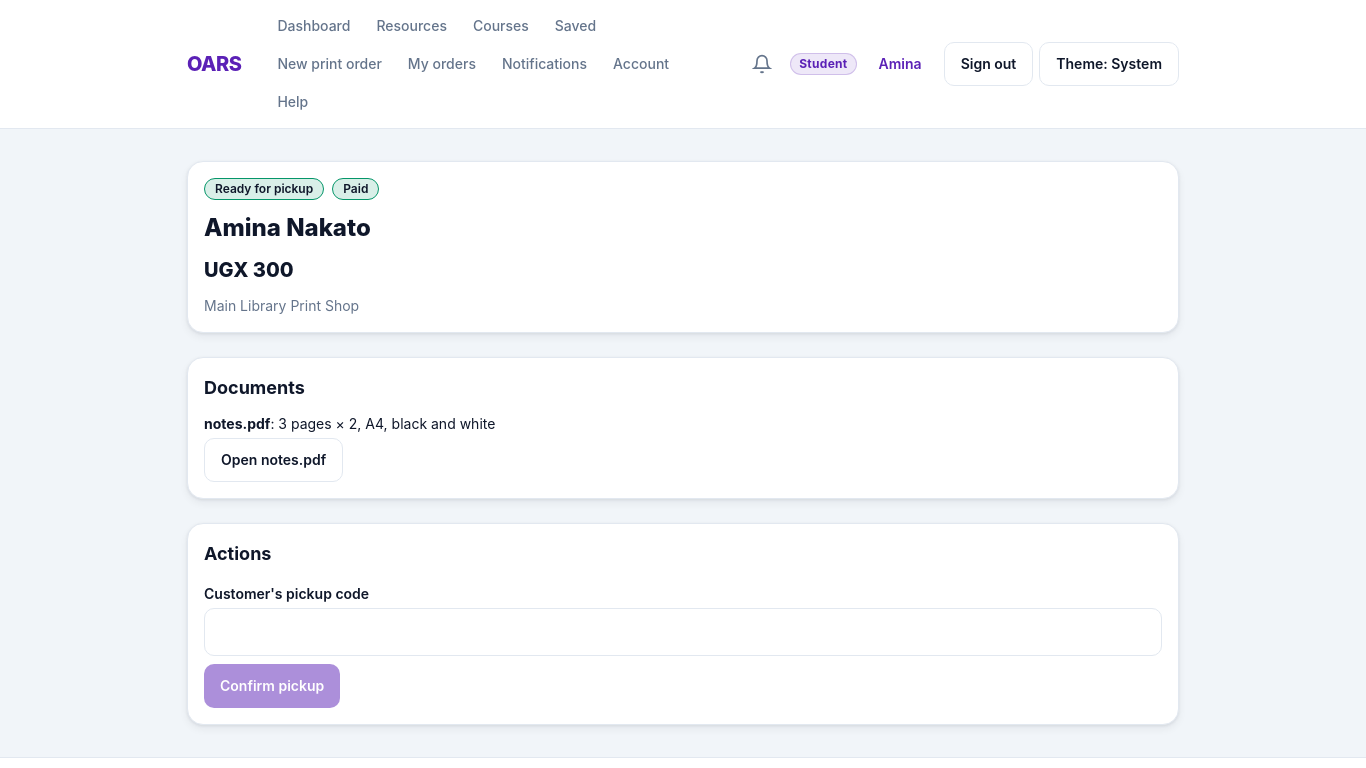
Scenario: OperatorOrderPage › shows the server's refusal of a wrong pickup code
The width and height of the screenshot is (1366, 768).
Type "WRONG1" into the field labelled "Customer's pickup code" at (683, 632), box [204,608,1162,656]
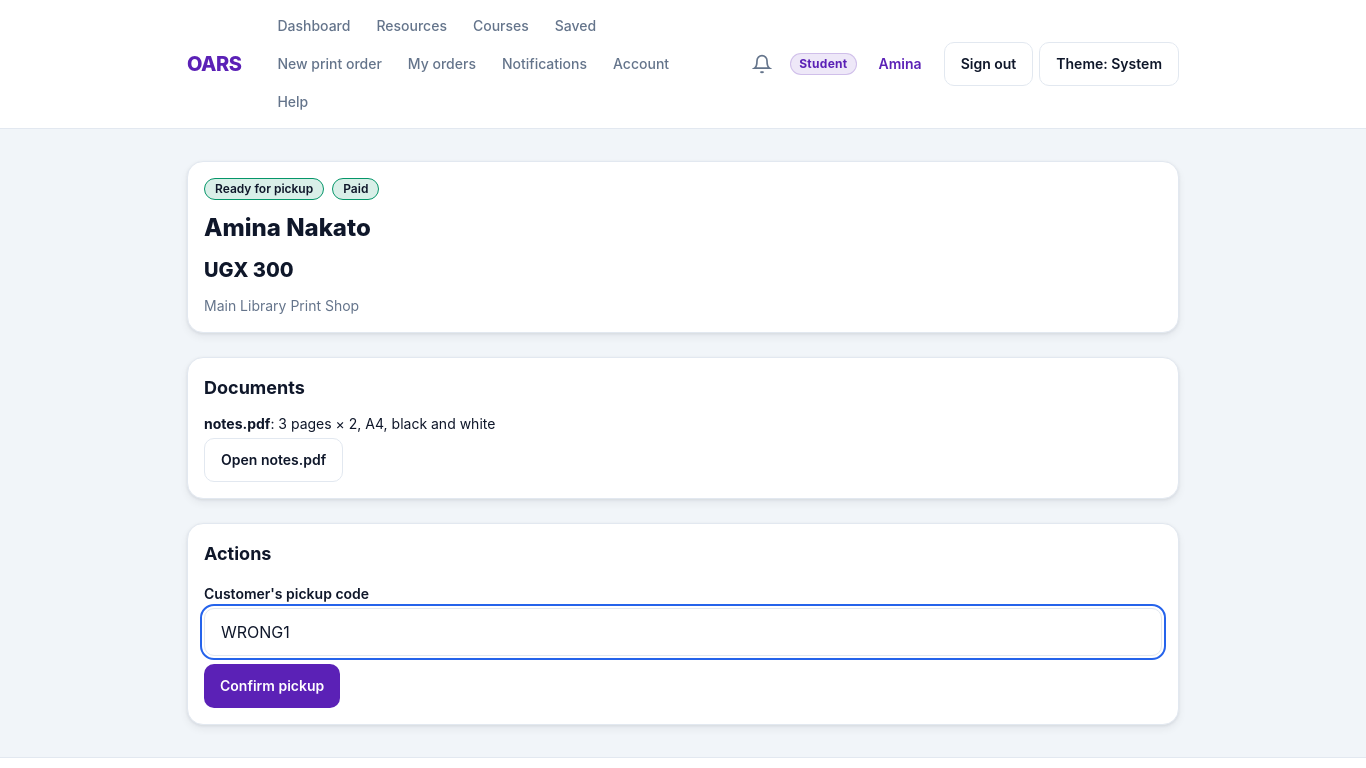
Click the button "Confirm pickup" at (272, 686), box [204,664,340,708]
(page scrolled)
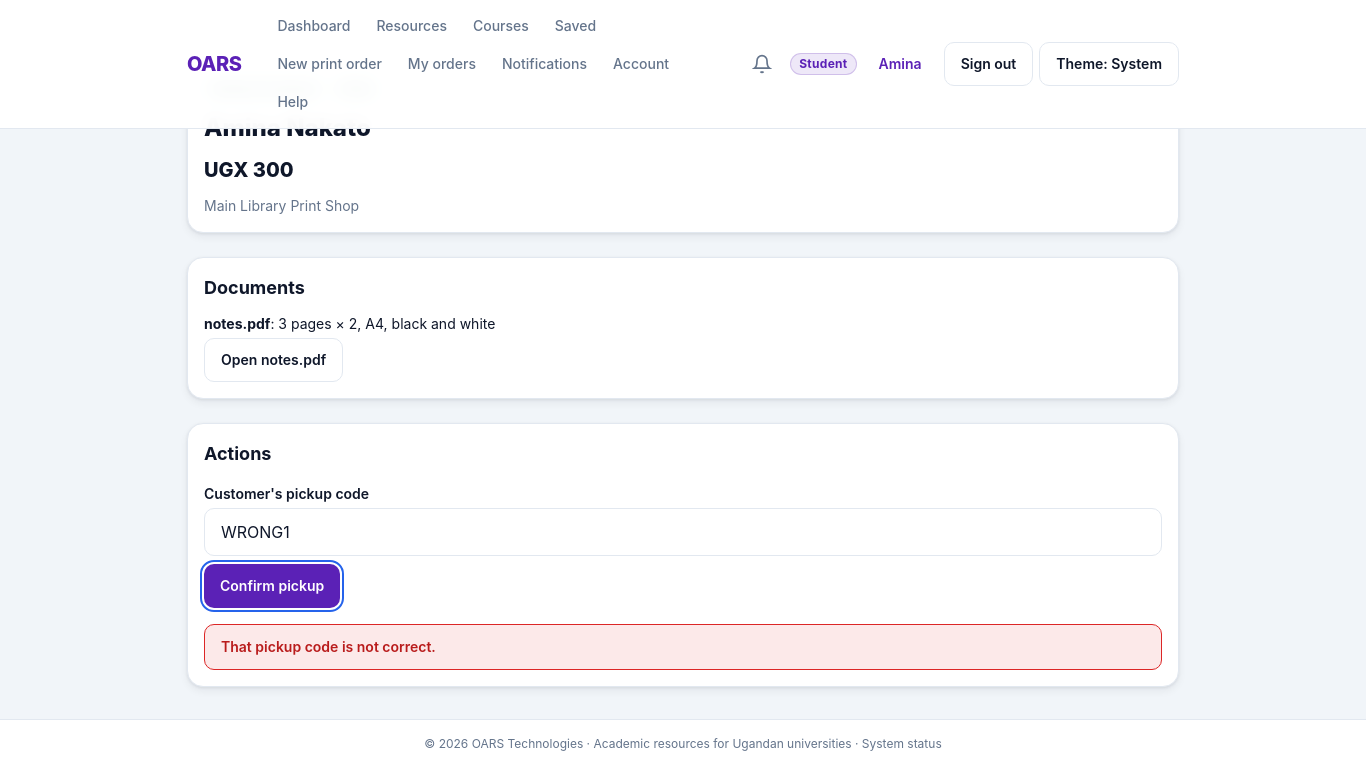
expect the text "That pickup code is not correct." is shown: met, box [204,624,1162,670]
